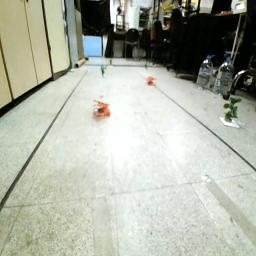herb: (225, 98, 244, 122), (101, 66, 107, 77)
wild: (94, 99, 112, 119), (147, 76, 158, 87)
